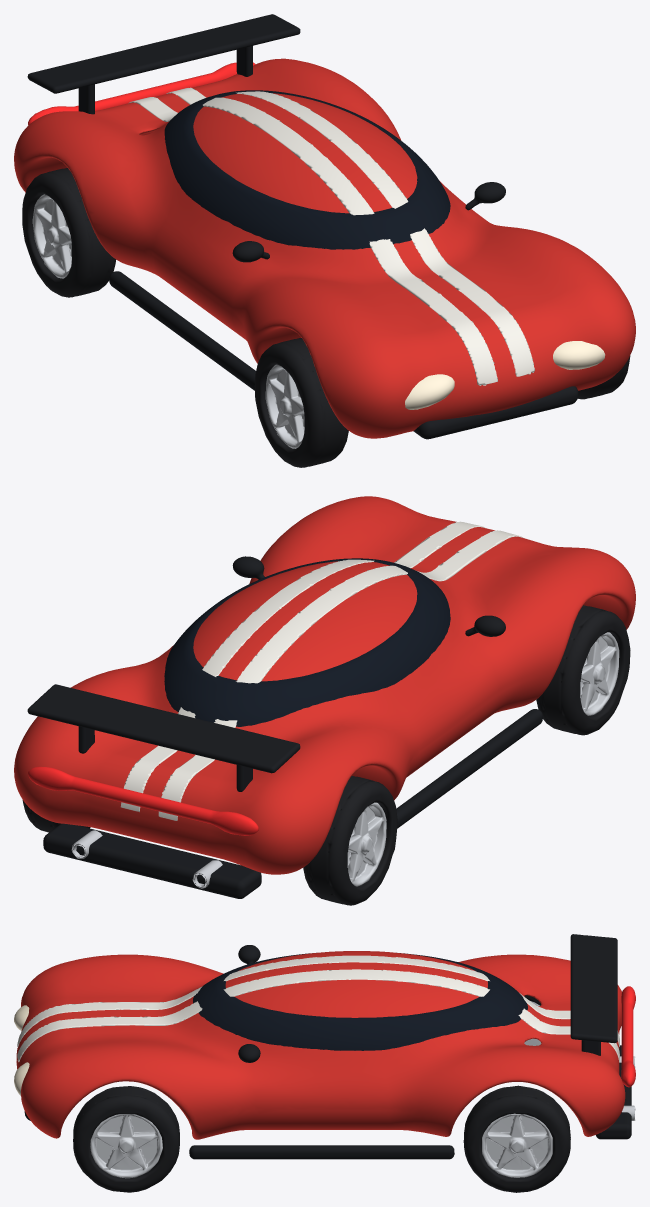
Rendered from gilaf-car.glb.
3 views of the same model, one above another, from view 1: azimuth 30°, elevation 25°; view 2: azimuth 150°, elevation 25°; view 3: azimuth 270°, elevation 25° (orthographic). The views are drawn at different scales.
Visible parts, largest first — view 1: Body, Trim, Windows, Stripe, WheelFrontRTire, WheelRearRTire, Headlights, WheelRearRRim, WheelFrontRRim, Brakelights, WheelFrontLTire; view 2: Body, Trim, Windows, Stripe, WheelFrontRTire, WheelRearRTire, Brakelights, WheelRearRRim, WheelFrontRRim, Exhaust; view 3: Body, Windows, Trim, Stripe, WheelRearLTire, WheelFrontLTire, WheelFrontLRim, WheelRearLRim, Brakelights, Headlights.
Part boxes in pixels (x1,y1,x2,y2): Body: [14, 58, 635, 438]; Trim: [27, 14, 578, 439]; Windows: [164, 90, 450, 249]; Stripe: [128, 87, 534, 385]; WheelFrontRTire: [254, 338, 348, 467]; WheelRearRTire: [22, 168, 116, 297]; Headlights: [405, 341, 605, 409]; WheelRearRRim: [32, 194, 71, 278]; WheelFrontRRim: [265, 364, 304, 448]; Brakelights: [28, 62, 255, 124]; WheelFrontLTire: [578, 355, 630, 399]; Body: [14, 496, 635, 874]; Trim: [27, 556, 542, 898]; Windows: [164, 558, 450, 726]; Stripe: [120, 521, 523, 820]; WheelFrontRTire: [536, 605, 630, 735]; WheelRearRTire: [303, 776, 397, 905]; Brakelights: [28, 766, 258, 835]; WheelRearRRim: [347, 802, 386, 886]; WheelFrontRRim: [580, 632, 619, 715]; Exhaust: [71, 830, 222, 888]; Body: [16, 951, 625, 1139]; Windows: [193, 952, 527, 1050]; Trim: [24, 934, 631, 1159]; Stripe: [17, 955, 619, 1062]; WheelRearLTire: [463, 1085, 570, 1192]; WheelFrontLTire: [73, 1086, 179, 1192]; WheelFrontLRim: [90, 1114, 162, 1178]; WheelRearLRim: [482, 1113, 552, 1177]; Brakelights: [621, 986, 635, 1087]; Headlights: [14, 1005, 29, 1095].
Size of the model in its own units: 2.23 by 1.3 by 4.46.
